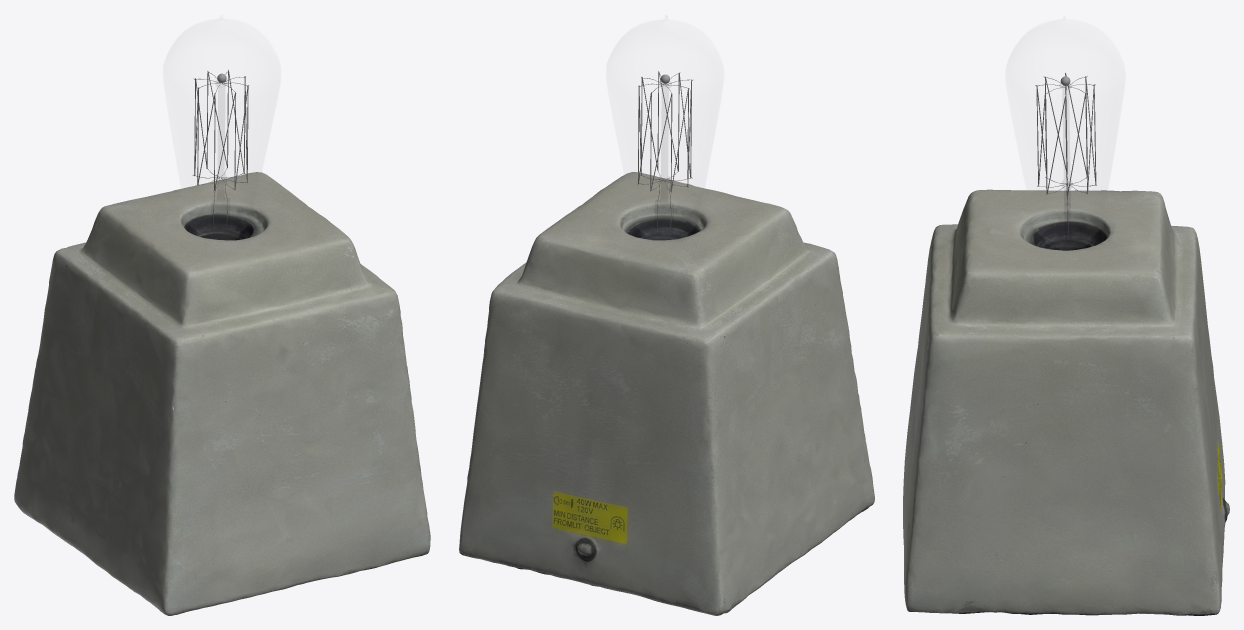
File: Wayfair-Bulb-MROW9060.glb
The picture shows the model from 3 angles, left to right: view 1: azimuth 30°, elevation 25°; view 2: azimuth 150°, elevation 25°; view 3: azimuth 270°, elevation 25°; orthographic projection. The views are drawn at different scales.
Visible parts, largest first — view 1: not_clear_obj_0_v6, not_clear_obj_1_v6; view 2: not_clear_obj_0_v6, not_clear_obj_1_v6; view 3: not_clear_obj_0_v6, not_clear_obj_1_v6.
Part boxes in pixels (box(x1,y1,x2,y2)): not_clear_obj_0_v6: box(14, 172, 430, 615); not_clear_obj_1_v6: box(192, 70, 248, 230); not_clear_obj_0_v6: box(459, 172, 874, 615); not_clear_obj_1_v6: box(637, 71, 693, 231); not_clear_obj_0_v6: box(903, 189, 1229, 615); not_clear_obj_1_v6: box(1035, 72, 1096, 238).
Size of what is drawn, in the model's own units: 0.1631 by 0.3014 by 0.1666.
5 materials, 1 textured.
